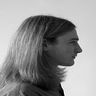ear: (36, 36, 54, 56)
